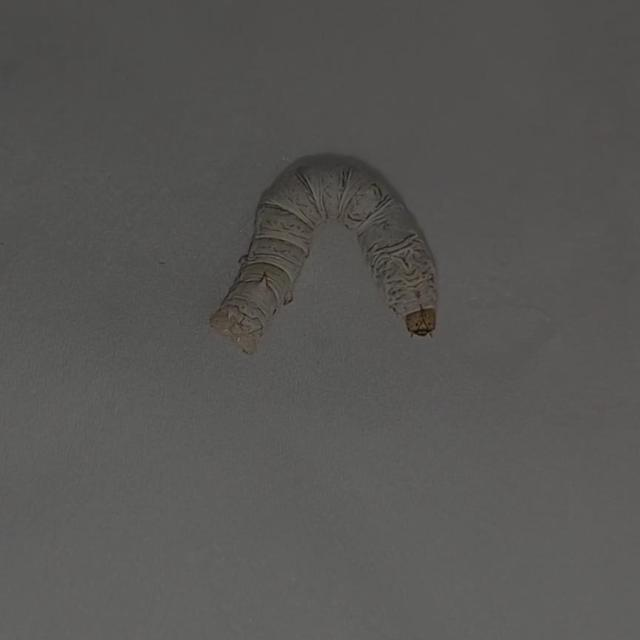Healthy: (177, 117, 460, 417)
